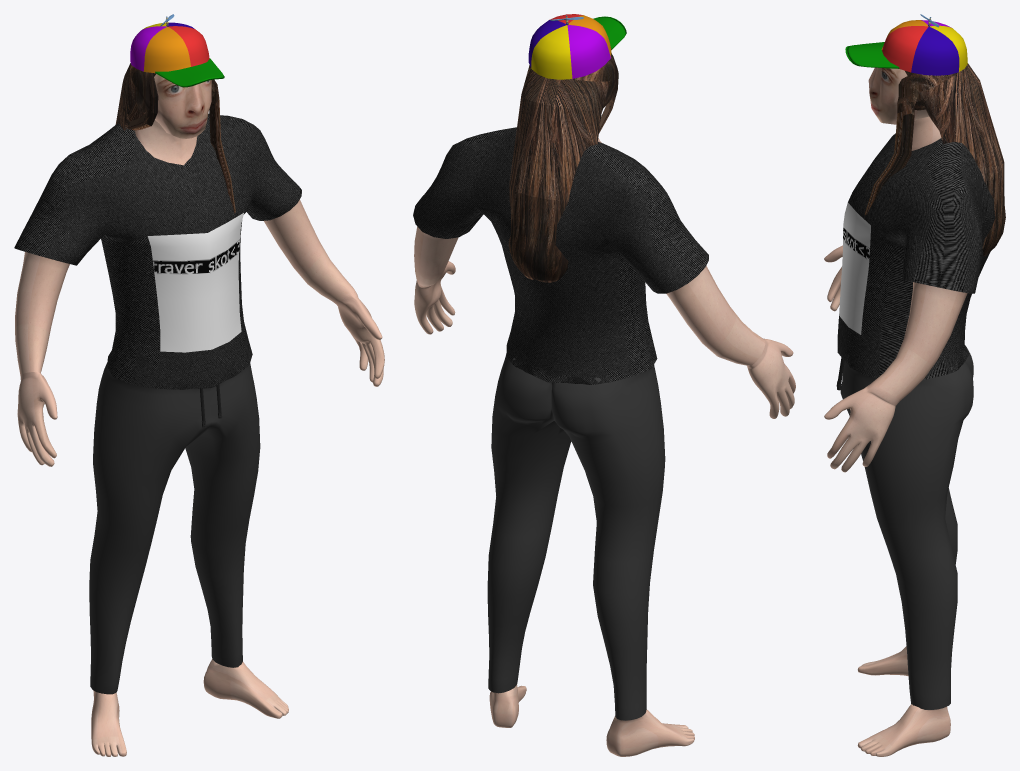
File: lilgren.fbx
The picture shows the model from 3 angles, left to right: view 1: azimuth 30°, elevation 25°; view 2: azimuth 150°, elevation 25°; view 3: azimuth 270°, elevation 25°; orthographic projection. The views are drawn at different scales.
Visible parts, largest first — view 1: pSphere6; view 2: pSphere6; view 3: pSphere6.
Boxes of the visible parts, box(x1,y1,x2,y2) form: pSphere6: box(14, 14, 384, 756); pSphere6: box(413, 14, 795, 756); pSphere6: box(824, 14, 1005, 756).
Size of the model in its own units: 5.99 by 11.46 by 2.72.
